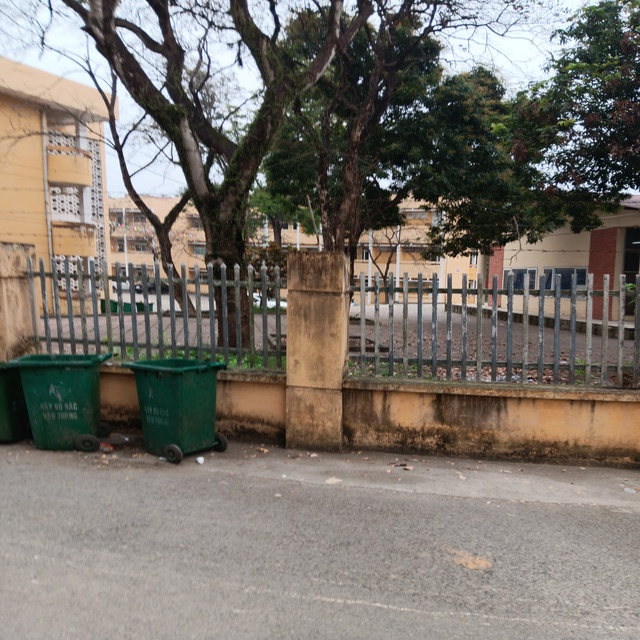thungrac: (126, 355, 223, 463), (14, 348, 108, 453)
